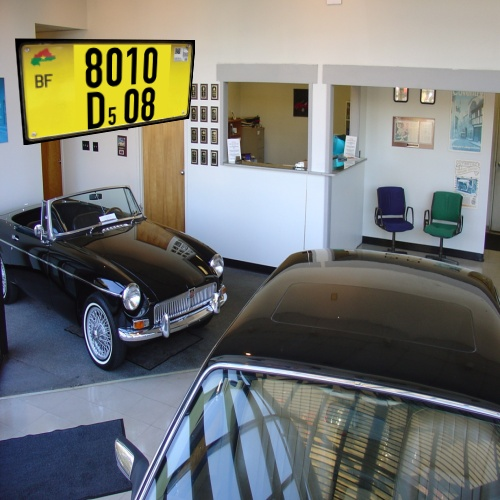plate: (12, 20, 205, 164)
